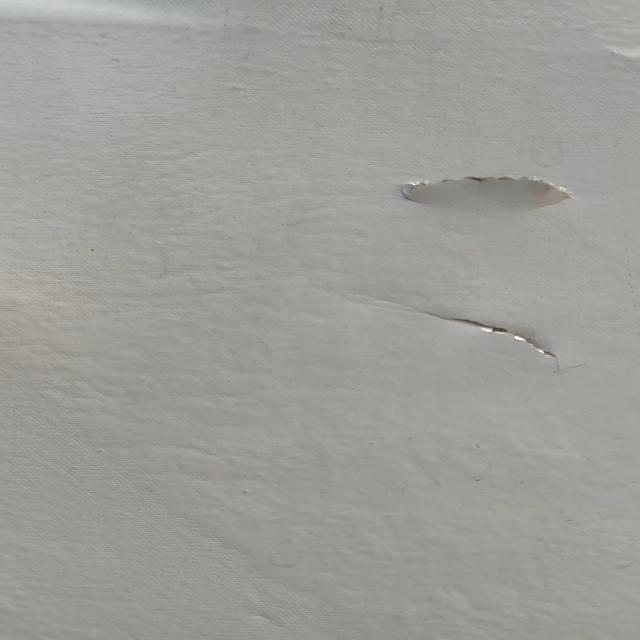Scratches: (367, 156, 610, 234), (377, 302, 593, 375)
